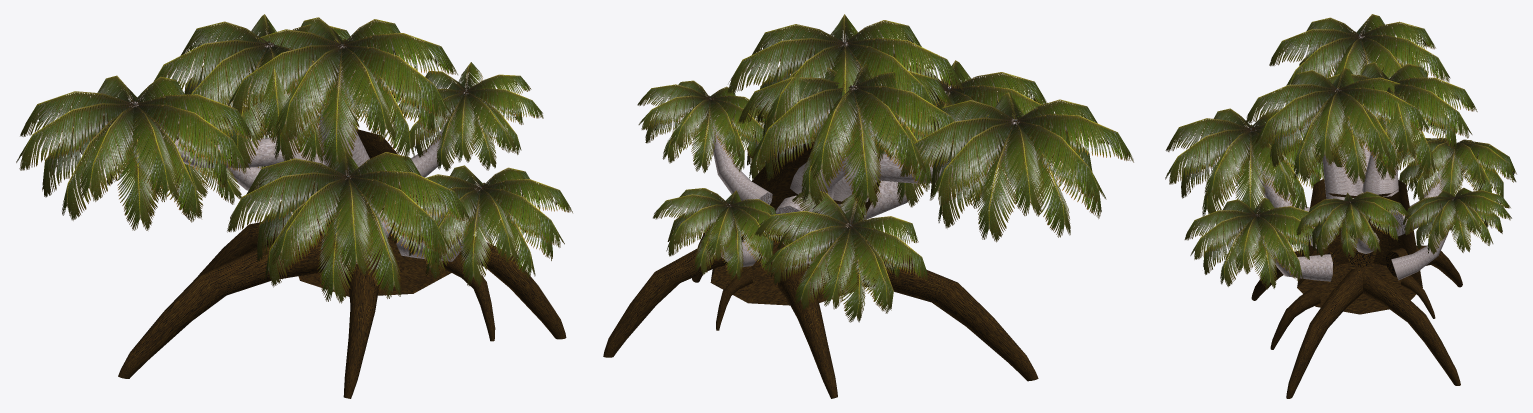
Rendered from Big_palm_tree.fbx.
3 views of the same model, side by side, from view 1: azimuth 30°, elevation 25°; view 2: azimuth 150°, elevation 25°; view 3: azimuth 270°, elevation 25° (orthographic). The views are drawn at different scales.
Visible parts, largest first — view 1: Big_palm_tree; view 2: Big_palm_tree; view 3: Big_palm_tree.
Part boxes in pixels (x1,y1,x2,y2): Big_palm_tree: [16, 14, 572, 398]; Big_palm_tree: [603, 14, 1133, 398]; Big_palm_tree: [1165, 14, 1516, 398].
Size of the model in its own units: 25.79 by 15.84 by 21.02.
